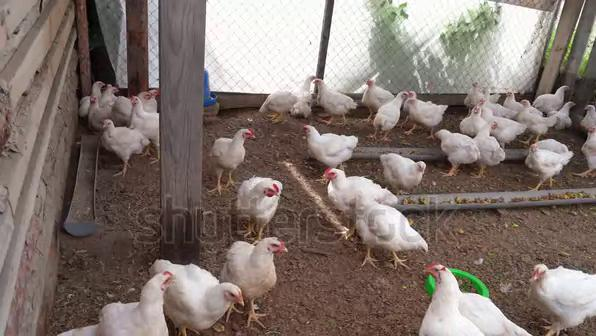Pollos: (422, 263, 521, 332), (355, 191, 433, 257), (171, 267, 245, 332), (103, 269, 170, 336), (533, 264, 596, 324), (226, 233, 287, 279), (301, 124, 359, 162), (99, 118, 150, 158), (237, 176, 283, 220), (319, 166, 370, 204), (214, 126, 257, 170), (379, 152, 428, 186), (311, 77, 355, 114), (372, 90, 411, 131), (436, 128, 477, 167), (405, 88, 449, 124), (530, 142, 575, 176), (252, 90, 305, 116), (477, 121, 504, 165), (130, 96, 160, 133), (518, 99, 549, 129), (461, 103, 492, 133), (86, 96, 112, 127), (539, 84, 570, 109), (552, 102, 577, 129), (468, 81, 498, 103), (500, 86, 519, 109)
